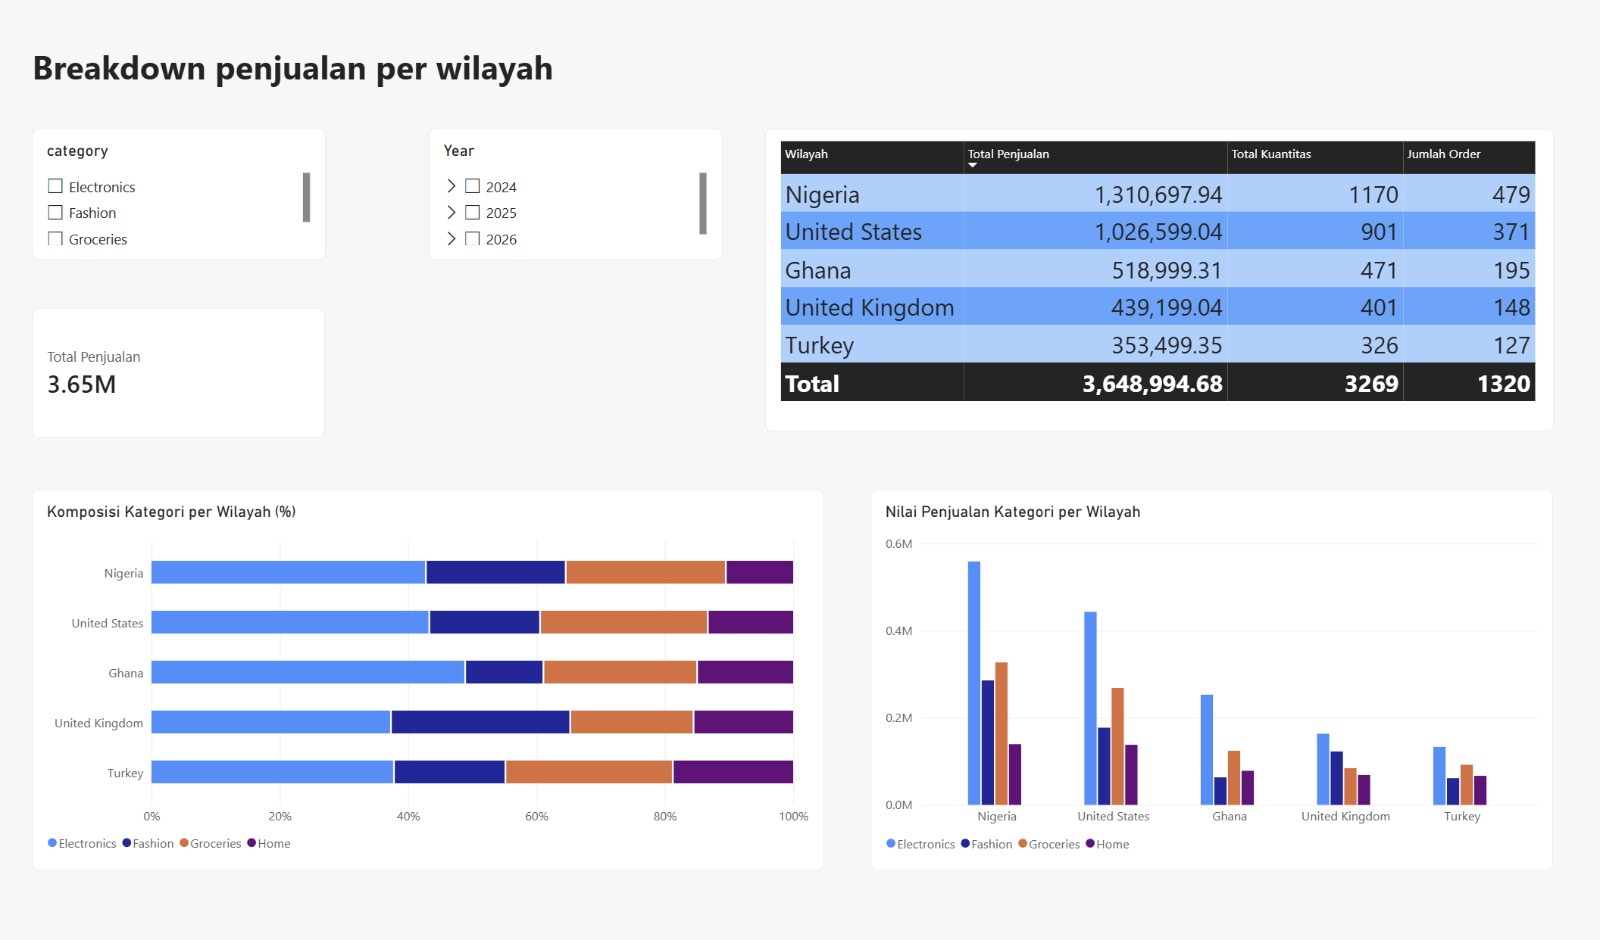

Layout of this report page (visuals, bound fields, positions):
{"tool":"powerbi","page":{"name":"Breakdown Wilayah","canvas":[1920,1080],"ordinal":1},"visuals":[{"type":"textbox","box":[86.7,50.5,608.1,56.9],"z":0},{"type":"listSlicer","fields":{"Values":["mart_daily_sales.category"]},"box":[86.6,146.1,333.8,150.1],"z":1000},{"type":"listSlicer","fields":{"Values":["mart_daily_sales.order_date.Variation.Date Hierarchy.Year","mart_daily_sales.order_date.Variation.Date Hierarchy.Quarter","mart_daily_sales.order_date.Variation.Date Hierarchy.Month","mart_daily_sales.order_date.Variation.Date Hierarchy.Day"]},"box":[537.7,146.1,333.8,150.1],"z":2000},{"type":"cardVisual","fields":{"Data":["Sum(mart_daily_sales.total_sales)"]},"box":[86.6,350.3,333.5,149.9],"z":3000},{"type":"hundredPercentStackedBarChart","title":"Komposisi Kategori per Wilayah (%)","fields":{"Category":["mart_daily_sales.region"],"Series":["mart_daily_sales.category"],"Y":["Sum(mart_daily_sales.total_sales)"]},"box":[86.6,557.1,901,434.3],"z":4000},{"type":"clusteredColumnChart","title":"Nilai Penjualan Kategori per Wilayah","fields":{"Category":["mart_daily_sales.region"],"Series":["mart_daily_sales.category"],"Y":["Sum(mart_daily_sales.total_sales)"]},"box":[1040.2,557.6,776.3,434.7],"z":5000},{"type":"tableEx","fields":{"Values":["mart_daily_sales.region","Sum(mart_daily_sales.total_sales)","Sum(mart_daily_sales.total_qty)","Sum(mart_daily_sales.n_orders)"]},"box":[920.4,146.1,897.1,345.1],"z":6000}]}

Visuals, with their boxes on the page's 1920x1080 design canvas (x1, y1, x2, y2). These are canvas units, not pixel positions in the 1600x940 screenshot, which may show the page scaled, cropped or inside an application window:
textbox: x1=87 y1=50 x2=695 y2=107
listSlicer - mart_daily_sales.category: x1=87 y1=146 x2=420 y2=296
listSlicer - mart_daily_sales.order_date.Variation.Date Hierarchy.Year x mart_daily_sales.order_date.Variation.Date Hierarchy.Quarter: x1=538 y1=146 x2=872 y2=296
cardVisual - Sum(mart_daily_sales.total_sales): x1=87 y1=350 x2=420 y2=500
"Komposisi Kategori per Wilayah (%)" hundredPercentStackedBarChart: x1=87 y1=557 x2=988 y2=991
"Nilai Penjualan Kategori per Wilayah" clusteredColumnChart: x1=1040 y1=558 x2=1816 y2=992
tableEx - mart_daily_sales.region x Sum(mart_daily_sales.total_sales): x1=920 y1=146 x2=1818 y2=491
